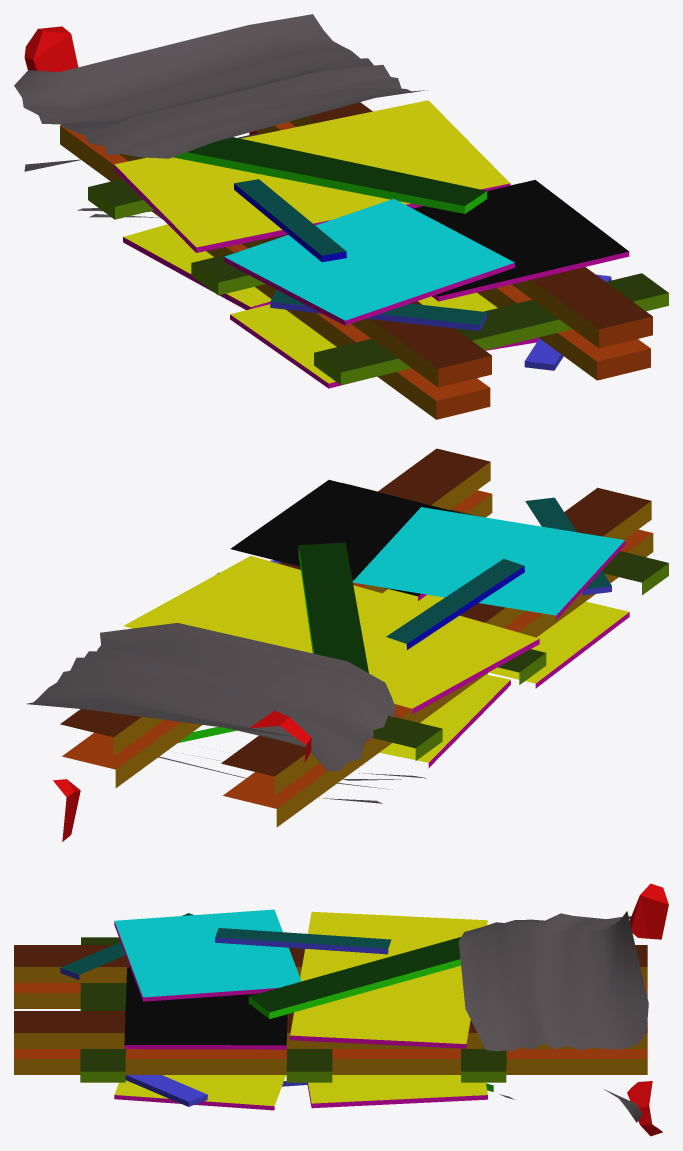
File: Wall_2.gltf
The picture shows the model from 3 angles, top to bottom: view 1: azimuth 30°, elevation 25°; view 2: azimuth 150°, elevation 25°; view 3: azimuth 270°, elevation 25°; orthographic projection. The views are drawn at different scales.
Parts seen in each view (by area): view 1: wall_2; view 2: wall_2; view 3: wall_2.
Part boxes in pixels (x1,y1,x2,y2): wall_2: (14, 14, 668, 419); wall_2: (26, 448, 668, 841); wall_2: (14, 883, 668, 1136).
Size of the model in its own units: 1048 by 526 by 2058.
